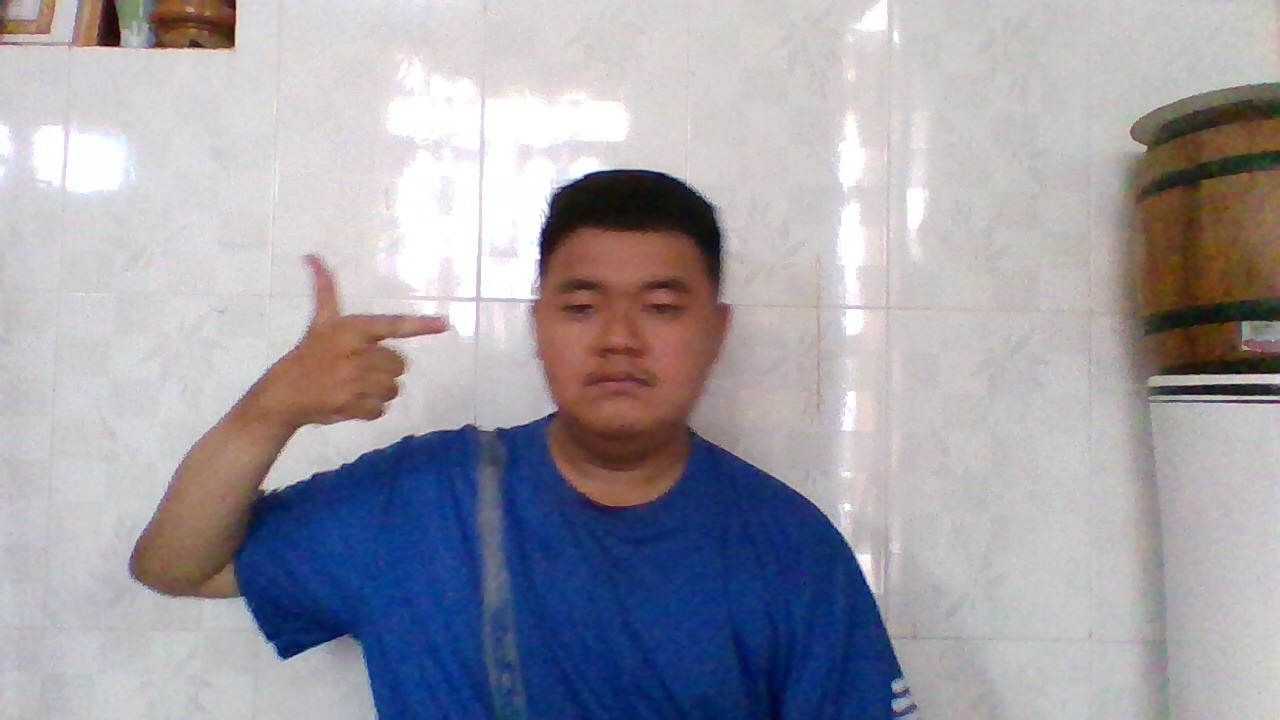G: (283, 243, 460, 424)
